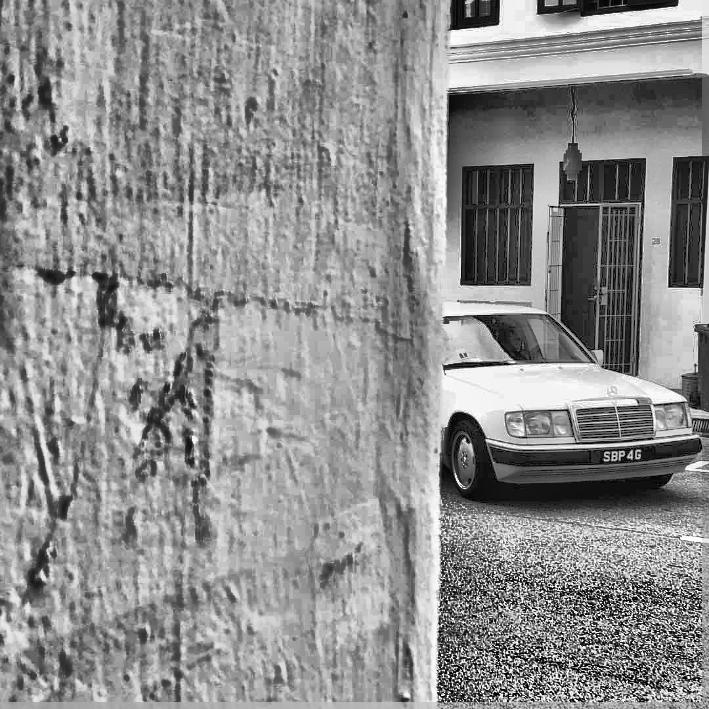License-Plates: (601, 447, 643, 464)
